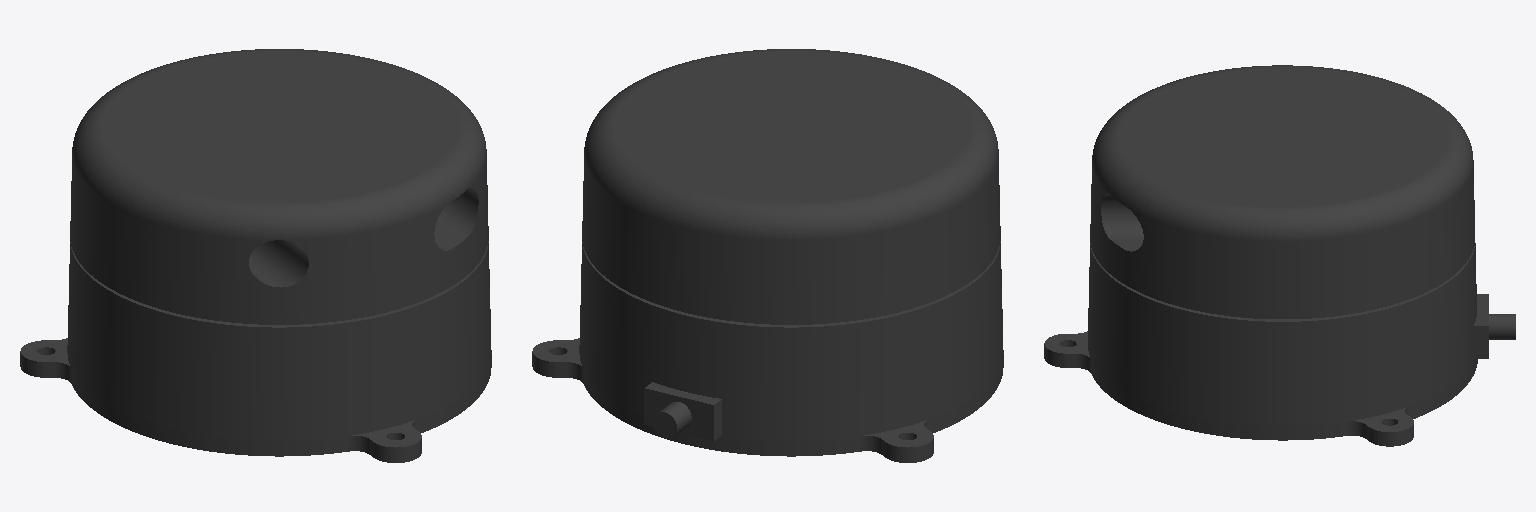
The robot description file, URDF, robot "wc_bot":
<?xml version="1.0" ?>
<robot name="wc_bot" xmlns:xacro="http://ros.org/wiki/xacro">
  <!-- <xacro:include filename="$(find wc_description)/urdf/common_properties.urdf"/> -->

  <!-- Init colour -->
  <material name="black">
      <color rgba="0.0 0.0 0.0 1.0"/>
  </material>

  <material name="dark">
    <color rgba="0.3 0.3 0.3 1.0"/>
  </material>

  <material name="light_black">
    <color rgba="0.4 0.4 0.4 1.0"/>
  </material>

  <material name="blue">
    <color rgba="0.0 0.0 0.8 1.0"/>
  </material>

  <material name="green">
    <color rgba="0.0 0.8 0.0 1.0"/>
  </material>

  <material name="grey">
    <color rgba="0.5 0.5 0.5 1.0"/>
  </material>

  <material name="orange">
    <color rgba="1.0 0.4235 0.0392 1.0"/>
  </material>

  <material name="brown">
    <color rgba="0.8706 0.8118 0.7647 1.0"/>
  </material>

  <material name="red">
    <color rgba="0.8 0.0 0.0 1.0"/>
  </material>

  <material name="white">
    <color rgba="1.0 1.0 1.0 1.0"/>
  </material>

  <link name="base_footprint"/>

  <joint name="base_joint" type="fixed">
    <parent link="base_footprint"/>
    <child link="base_link" />
    <origin xyz="0 0 0.010" rpy="0 0 0"/>
  </joint>

  <link name="base_link">
    <visual>
      <origin xyz="-0.064 0 0.0" rpy="0 0 0"/>
      <geometry>
        <mesh filename="package://wc_description/meshes/bases/wc_base.stl" scale="0.001 0.001 0.001"/>
      </geometry>
      <material name="light_black"/>
    </visual>

    <collision>
      <origin xyz="-0.064 0 0.047" rpy="0 0 0"/>
      <geometry>
        <box size="0.266 0.266 0.094"/>
      </geometry>
    </collision>

    <inertial>
      <origin xyz="0 0 0" rpy="0 0 0"/>
      <mass value="1.3729096e+00"/>
      <inertia ixx="8.7002718e-03" ixy="-4.7576583e-05" ixz="1.1160499e-04"
               iyy="8.6195418e-03" iyz="-3.5422299e-06"
               izz="1.4612727e-02" />
    </inertial>
  </link>

  <joint name="wheel_left_joint" type="continuous">
    <parent link="base_link"/>
    <child link="wheel_left_link"/>
    <origin xyz="0.0 0.144 0.023" rpy="-1.57 0 0"/>
    <axis xyz="0 0 1"/>
  </joint>

  <link name="wheel_left_link">
    <visual>
      <origin xyz="0 0 0" rpy="1.57 0 0"/>
      <geometry>
        <mesh filename="package://wc_description/meshes/wheels/left_tire.stl" scale="0.001 0.001 0.001"/>
      </geometry>
      <material name="dark"/>
    </visual>

    <collision>
      <origin xyz="0 0 0" rpy="0 0 0"/>
      <geometry>
        <cylinder length="0.018" radius="0.1016"/>
      </geometry>
    </collision>

    <inertial>
      <origin xyz="0 0 0" />
      <mass value="2.8498940e-02" />
      <inertia ixx="1.1175580e-05" ixy="-4.2369783e-11" ixz="-5.9381719e-09"
               iyy="1.1192413e-05" iyz="-1.4400107e-11"
               izz="2.0712558e-05" />
      </inertial>
  </link>

  <joint name="wheel_right_joint" type="continuous">
    <parent link="base_link"/>
    <child link="wheel_right_link"/>
    <origin xyz="0.0 -0.144 0.023" rpy="-1.57 0 0"/>
    <axis xyz="0 0 1"/>
  </joint>

  <link name="wheel_right_link">
    <visual>
      <origin xyz="0 0 0" rpy="1.57 0 0"/>
      <geometry>
        <mesh filename="package://wc_description/meshes/wheels/right_tire.stl" scale="0.001 0.001 0.001"/>
      </geometry>
      <material name="dark"/>
    </visual>

    <collision>
      <origin xyz="0 0 0" rpy="0 0 0"/>
      <geometry>
        <cylinder length="0.018" radius="0.1016"/>
      </geometry>
    </collision>

    <inertial>
      <origin xyz="0 0 0" />
      <mass value="2.8498940e-02" />
      <inertia ixx="1.1175580e-05" ixy="-4.2369783e-11" ixz="-5.9381719e-09"
               iyy="1.1192413e-05" iyz="-1.4400107e-11"
               izz="2.0712558e-05" />
      </inertial>
  </link>

  <joint name="caster_back_right_joint" type="fixed">
    <parent link="base_link"/>
    <child link="caster_back_right_link"/>
    <origin xyz="-0.177 -0.064 -0.004" rpy="-1.57 0 0"/>
  </joint>

  <link name="caster_back_right_link">
    <collision>
      <origin xyz="0 0.001 0" rpy="0 0 0"/>
      <geometry>
        <box size="0.030 0.009 0.020"/>
      </geometry>
    </collision>

    <inertial>
      <origin xyz="0 0 0" />
      <mass value="0.005" />
      <inertia ixx="0.001" ixy="0.0" ixz="0.0"
               iyy="0.001" iyz="0.0"
               izz="0.001" />
    </inertial>
  </link>

  <joint name="caster_back_left_joint" type="fixed">
    <parent link="base_link"/>
    <child link="caster_back_left_link"/>
    <origin xyz="-0.177 0.064 -0.004" rpy="-1.57 0 0"/>
  </joint>

  <link name="caster_back_left_link">
    <collision>
      <origin xyz="0 0.001 0" rpy="0 0 0"/>
      <geometry>
        <box size="0.030 0.009 0.020"/>
      </geometry>
    </collision>

    <inertial>
      <origin xyz="0 0 0" />
      <mass value="0.005" />
      <inertia ixx="0.001" ixy="0.0" ixz="0.0"
               iyy="0.001" iyz="0.0"
               izz="0.001" />
    </inertial>
  </link>

  <joint name="imu_joint" type="fixed">
    <parent link="base_link"/>
    <child link="imu_link"/>
    <origin xyz="0.0 0 0.068" rpy="0 0 0"/>
  </joint>

  <link name="imu_link"/>

  <joint name="scan_joint" type="fixed">
    <parent link="base_link"/>
    <child link="base_scan"/>
    <origin xyz="-0.064 0 0.122" rpy="0 0 0"/>
  </joint>

  <link name="base_scan">
    <visual>
      <origin xyz="0 0 0.0" rpy="0 0 0"/>
      <geometry>
        <mesh filename="package://wc_description/meshes/sensors/ydl.stl" scale="0.001 0.001 0.001"/>
      </geometry>
      <material name="dark"/>
    </visual>

    <collision>
      <origin xyz="0.015 0 -0.0065" rpy="0 0 0"/>
      <geometry>
        <cylinder length="0.0315" radius="0.055"/>
      </geometry>
    </collision>

    <inertial>
      <mass value="0.114" />
      <origin xyz="0 0 0" />
      <inertia ixx="0.001" ixy="0.0" ixz="0.0"
               iyy="0.001" iyz="0.0"
               izz="0.001" />
    </inertial>
  </link>

  <!-- <joint name="camera_joint" type="fixed">
    <origin xyz="0.073 -0.011 0.084" rpy="0 0 0"/>
    <parent link="base_link"/>
    <child link="camera_link"/>
  </joint> -->

  <!-- <link name="camera_link">
    <collision>
      <origin xyz="0.005 0.011 0.013" rpy="0 0 0"/>
      <geometry>
        <box size="0.015 0.030 0.027"/>
      </geometry>
    </collision>
  </link> -->

  <!-- <joint name="camera_rgb_joint" type="fixed">
    <origin xyz="0.003 0.011 0.009" rpy="0 0 0"/>
    <parent link="camera_link"/>
    <child link="camera_rgb_frame"/>
  </joint>
  <link name="camera_rgb_frame"/>

  <joint name="camera_rgb_optical_joint" type="fixed">
    <origin xyz="0 0 0" rpy="-1.57 0 -1.57"/>
    <parent link="camera_rgb_frame"/>
    <child link="camera_rgb_optical_frame"/>
  </joint>
  <link name="camera_rgb_optical_frame"/> -->

</robot>

--- What the picture shows (computed from the rendered views, not written in the file) ---
The picture shows the robot from 3 angles, left to right: view 1: azimuth 30°, elevation 25°; view 2: azimuth 150°, elevation 25°; view 3: azimuth 270°, elevation 25°; orthographic projection.
Robot: wc_bot — 8 links, 7 joints (2 continuous, 5 fixed); root link base_footprint; default pose: all joints at 0.
Visible links, largest first — view 1: base_scan; view 2: base_scan; view 3: base_scan.
Link boxes in pixels (x1,y1,x2,y2): base_scan: (20,49,491,462); base_scan: (532,49,1003,462); base_scan: (1044,65,1515,446).
Size in the robot's own frame: 0.0791 by 0.0889 by 0.046 metres.
1 mesh visuals loaded from 4 distinct referenced files (1 binary STL); not drawn: 3 (reference not matched to a file when rendering).